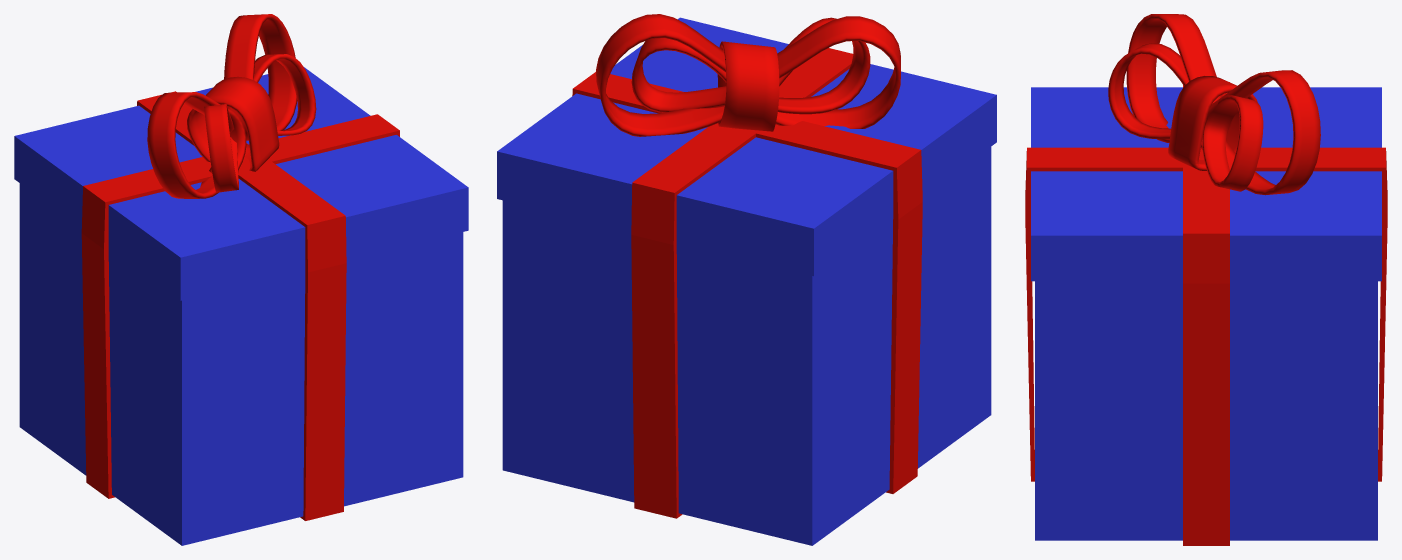
The model's file is Presente.fbx.
The picture shows the model from 3 angles, left to right: view 1: azimuth 30°, elevation 25°; view 2: azimuth 150°, elevation 25°; view 3: azimuth 270°, elevation 25°; orthographic projection. The views are drawn at different scales.
Visible parts, largest first — view 1: Caixa, Tampa, Fita, Laço; view 2: Caixa, Tampa, Fita, Laço; view 3: Caixa, Tampa, Fita, Laço.
Part boxes in pixels (box(x1,y1,x2,y2)): Caixa: box(19, 183, 463, 545); Tampa: box(14, 67, 468, 300); Fita: box(81, 91, 399, 520); Laço: box(147, 14, 316, 198); Caixa: box(502, 147, 991, 545); Tampa: box(497, 17, 996, 276); Fita: box(572, 48, 922, 518); Laço: box(596, 14, 900, 136); Caixa: box(1035, 281, 1377, 540); Tampa: box(1031, 87, 1381, 281); Fita: box(1025, 82, 1387, 545); Laço: box(1108, 14, 1320, 195).
Bounding box in the file's own units: 15.5 × 20.04 × 15.5.
